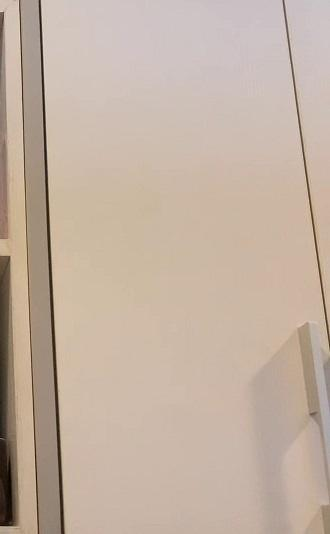cabinet_door: (49, 1, 319, 534)
handle: (293, 314, 330, 520)
